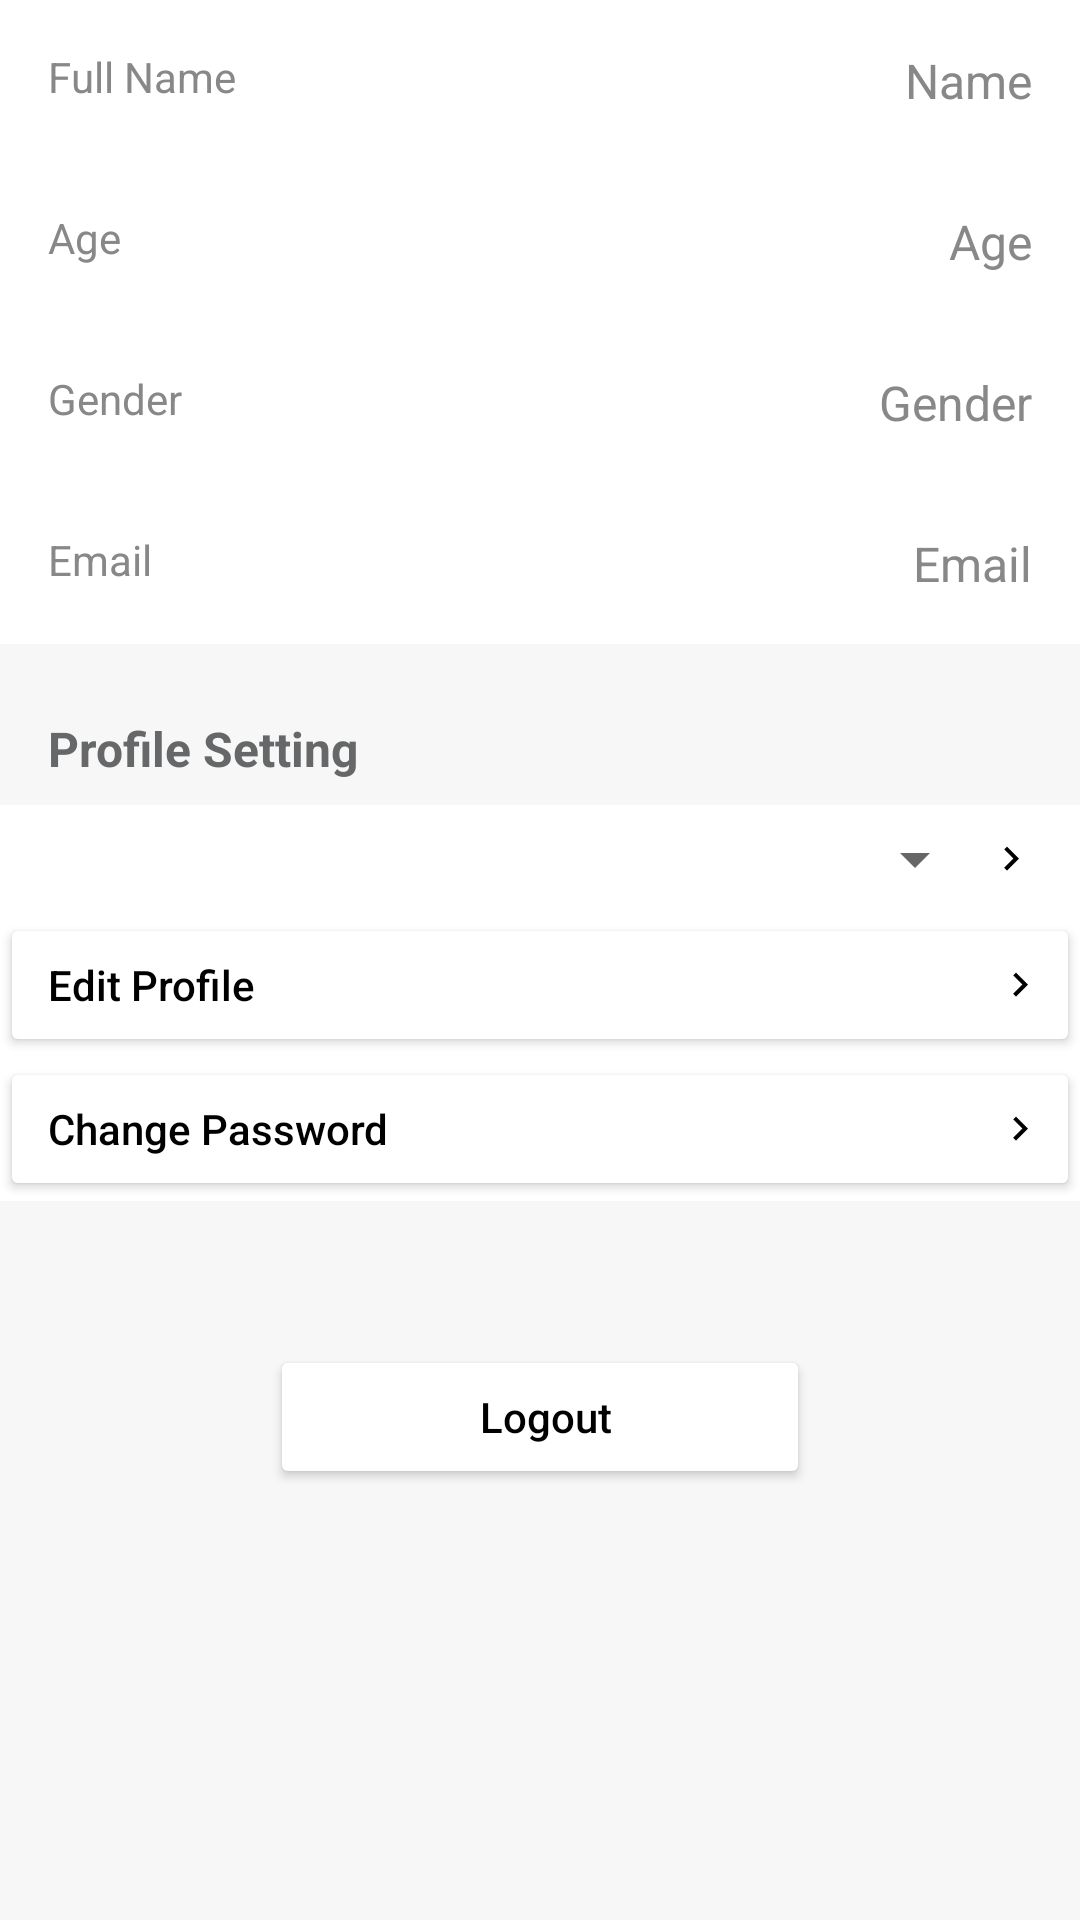

Icon bounding boxes for this 1080px x 1920px phone screenshot, format (x1, y1, x2, y2):
arrowright: (1004, 847, 1019, 871)
